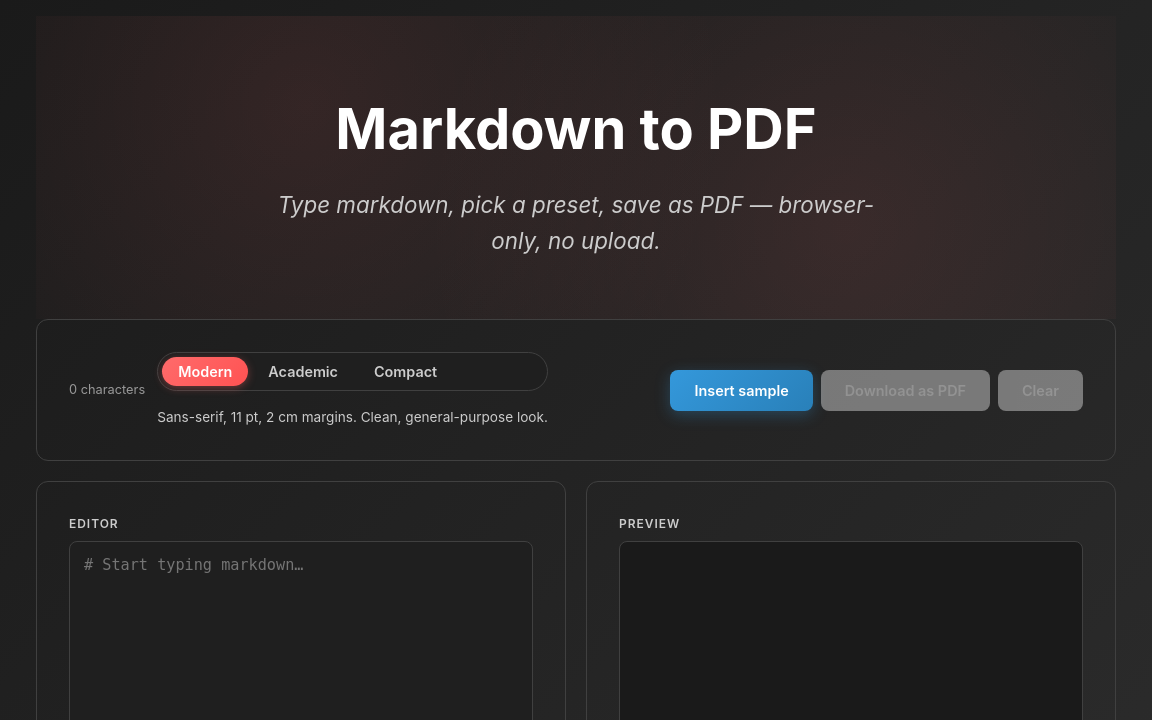
Test: <MarkdownToPdf /> — preset description › shows the Academic description after selecting Academic
Click the radio button labelled "Academic": click(303, 371) [252,357,354,386]
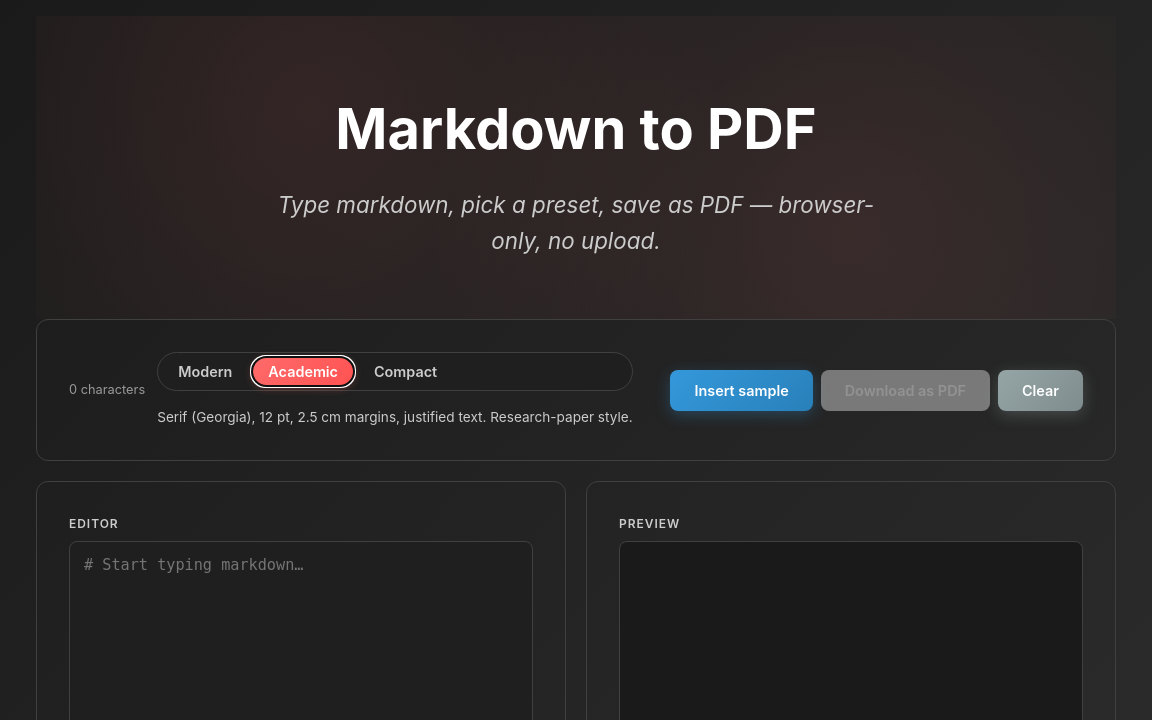
Now the text "Serif (Georgia), 12 pt, 2.5 cm margins" is shown, box [157,410,633,426]
